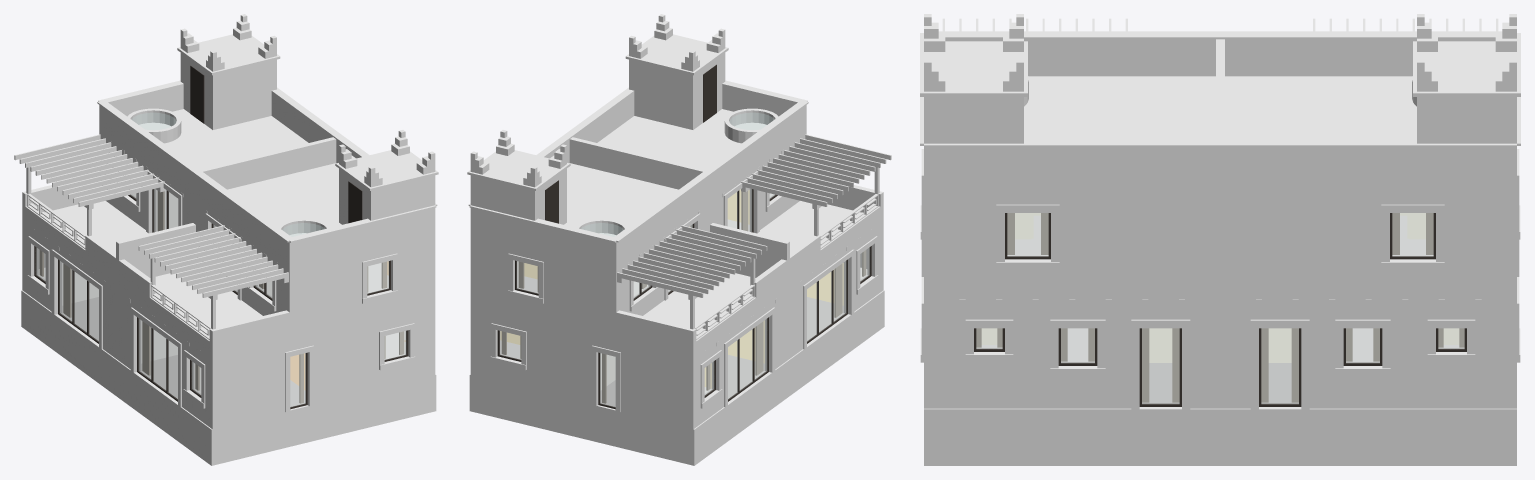
Rendered from Mirleft_Bay_Duplex_Pair.glb.
3 renders of one model, left to right at view 1: azimuth 30°, elevation 25°; view 2: azimuth 150°, elevation 25°; view 3: azimuth 270°, elevation 25°, orthographic. The views are drawn at different scales.
Visible parts, largest first — view 1: TYPE_DUPLEX_PAIR_render, TYPE_DUPLEX_PAIR_render_dark, TYPE_DUPLEX_PAIR_timber, TYPE_DUPLEX_PAIR_terrace, TYPE_DUPLEX_PAIR_glass, TYPE_DUPLEX_PAIR_bronze, TYPE_DUPLEX_PAIR_interior, TYPE_DUPLEX_PAIR_curtain, TYPE_DUPLEX_PAIR_pool_tile, TYPE_DUPLEX_PAIR_pool_water; view 2: TYPE_DUPLEX_PAIR_render, TYPE_DUPLEX_PAIR_render_dark, TYPE_DUPLEX_PAIR_timber, TYPE_DUPLEX_PAIR_terrace, TYPE_DUPLEX_PAIR_glass, TYPE_DUPLEX_PAIR_bronze, TYPE_DUPLEX_PAIR_interior, TYPE_DUPLEX_PAIR_curtain, TYPE_DUPLEX_PAIR_pool_tile, TYPE_DUPLEX_PAIR_pool_water; view 3: TYPE_DUPLEX_PAIR_render, TYPE_DUPLEX_PAIR_render_dark, TYPE_DUPLEX_PAIR_terrace, TYPE_DUPLEX_PAIR_glass, TYPE_DUPLEX_PAIR_interior, TYPE_DUPLEX_PAIR_curtain, TYPE_DUPLEX_PAIR_bronze, TYPE_DUPLEX_PAIR_timber.
Boxes of the visible parts, bbox=[...] form: TYPE_DUPLEX_PAIR_render: bbox=[22, 14, 438, 429]; TYPE_DUPLEX_PAIR_render_dark: bbox=[21, 141, 436, 465]; TYPE_DUPLEX_PAIR_timber: bbox=[14, 134, 288, 339]; TYPE_DUPLEX_PAIR_terrace: bbox=[45, 108, 341, 353]; TYPE_DUPLEX_PAIR_glass: bbox=[36, 189, 406, 406]; TYPE_DUPLEX_PAIR_bronze: bbox=[34, 65, 408, 409]; TYPE_DUPLEX_PAIR_interior: bbox=[38, 189, 405, 393]; TYPE_DUPLEX_PAIR_curtain: bbox=[39, 191, 404, 403]; TYPE_DUPLEX_PAIR_pool_tile: bbox=[130, 110, 326, 235]; TYPE_DUPLEX_PAIR_pool_water: bbox=[132, 113, 324, 236]; TYPE_DUPLEX_PAIR_render: bbox=[467, 14, 883, 429]; TYPE_DUPLEX_PAIR_render_dark: bbox=[469, 141, 884, 465]; TYPE_DUPLEX_PAIR_timber: bbox=[617, 134, 891, 339]; TYPE_DUPLEX_PAIR_terrace: bbox=[564, 108, 860, 353]; TYPE_DUPLEX_PAIR_glass: bbox=[499, 189, 869, 406]; TYPE_DUPLEX_PAIR_bronze: bbox=[497, 64, 871, 409]; TYPE_DUPLEX_PAIR_interior: bbox=[500, 189, 867, 393]; TYPE_DUPLEX_PAIR_curtain: bbox=[501, 191, 866, 403]; TYPE_DUPLEX_PAIR_pool_tile: bbox=[579, 110, 775, 235]; TYPE_DUPLEX_PAIR_pool_water: bbox=[581, 113, 773, 236]; TYPE_DUPLEX_PAIR_render: bbox=[920, 14, 1520, 408]; TYPE_DUPLEX_PAIR_render_dark: bbox=[920, 149, 1520, 465]; TYPE_DUPLEX_PAIR_terrace: bbox=[1024, 76, 1416, 139]; TYPE_DUPLEX_PAIR_glass: bbox=[976, 213, 1464, 403]; TYPE_DUPLEX_PAIR_interior: bbox=[976, 213, 1464, 362]; TYPE_DUPLEX_PAIR_curtain: bbox=[976, 213, 1464, 402]; TYPE_DUPLEX_PAIR_bronze: bbox=[974, 213, 1466, 406]; TYPE_DUPLEX_PAIR_timber: bbox=[942, 18, 1498, 31].
Size of the model in its own units: 10.9 by 11.53 by 15.6.
